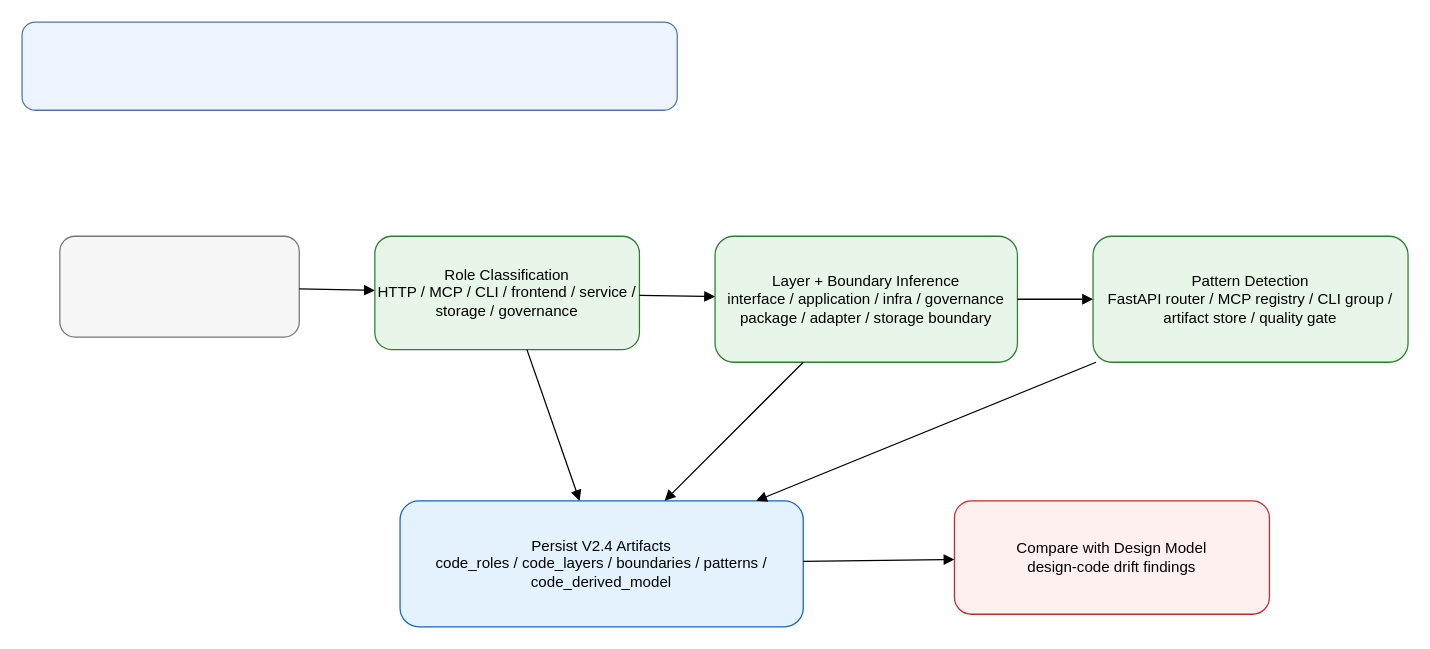
Image size: 1430x649. Some labels were removed from this diagram. Here are the shapes that lost their labels. From the top down, the box of each, then its label:
(21, 21, 677, 110): V2.4 Pipeline：代码事实 -> 架构抽象 -> 漂移审计
(59, 235, 299, 337): Read Accepted Artifacts V2.0 / V2.1 / V2.3
